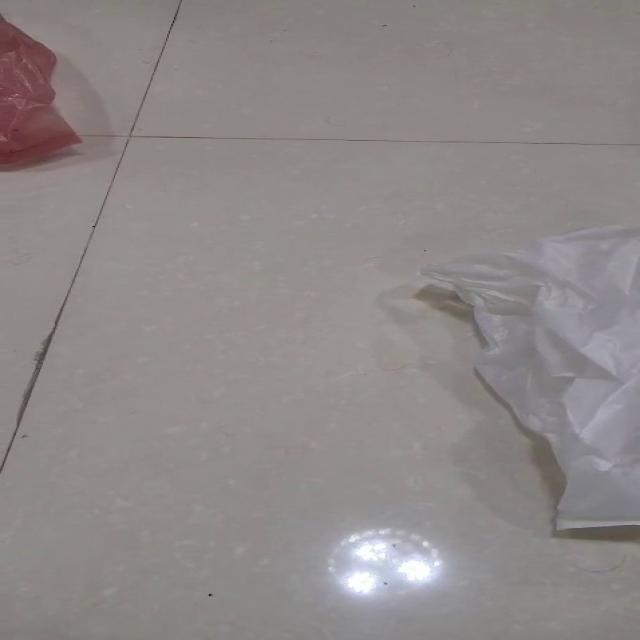plastic: (418, 224, 638, 530), (0, 12, 83, 166)
